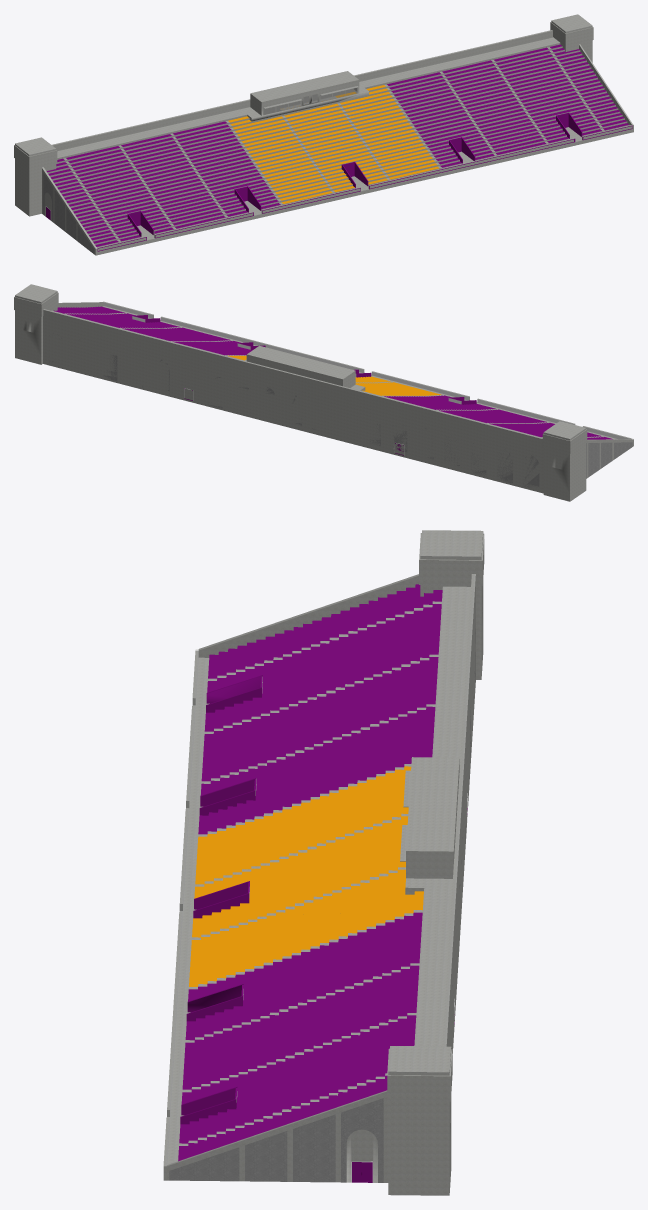
The picture shows the model from 3 angles, top to bottom: view 1: azimuth 30°, elevation 25°; view 2: azimuth 150°, elevation 25°; view 3: azimuth 270°, elevation 25°; orthographic projection. The views are drawn at different scales.
Parts seen in each view (by area): view 1: Group1, Group3, Group2; view 2: Group1, Group3, Group2; view 3: Group1, Group2, Group3.
Boxes of the visible parts, x1,y1,x2,y2 form: Group1: (42, 30, 633, 255); Group3: (14, 137, 57, 216); Group2: (550, 14, 593, 62); Group1: (43, 301, 633, 493); Group3: (542, 421, 587, 501); Group2: (14, 284, 58, 364); Group1: (163, 574, 475, 1182); Group2: (387, 1046, 452, 1195); Group3: (419, 530, 484, 679).
Size of the model in its own units: 4117 by 436 by 1028.
Materials: 6 (2 with a texture image).
